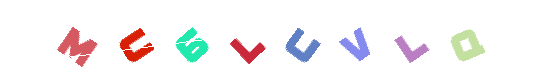6: (151, 0, 231, 80)
C: (261, 0, 341, 80)
L: (241, 0, 321, 80), (314, 0, 394, 80)
M: (46, 0, 126, 80)
Q: (415, 0, 495, 80)
U: (140, 0, 220, 80)
V: (310, 0, 390, 80)
